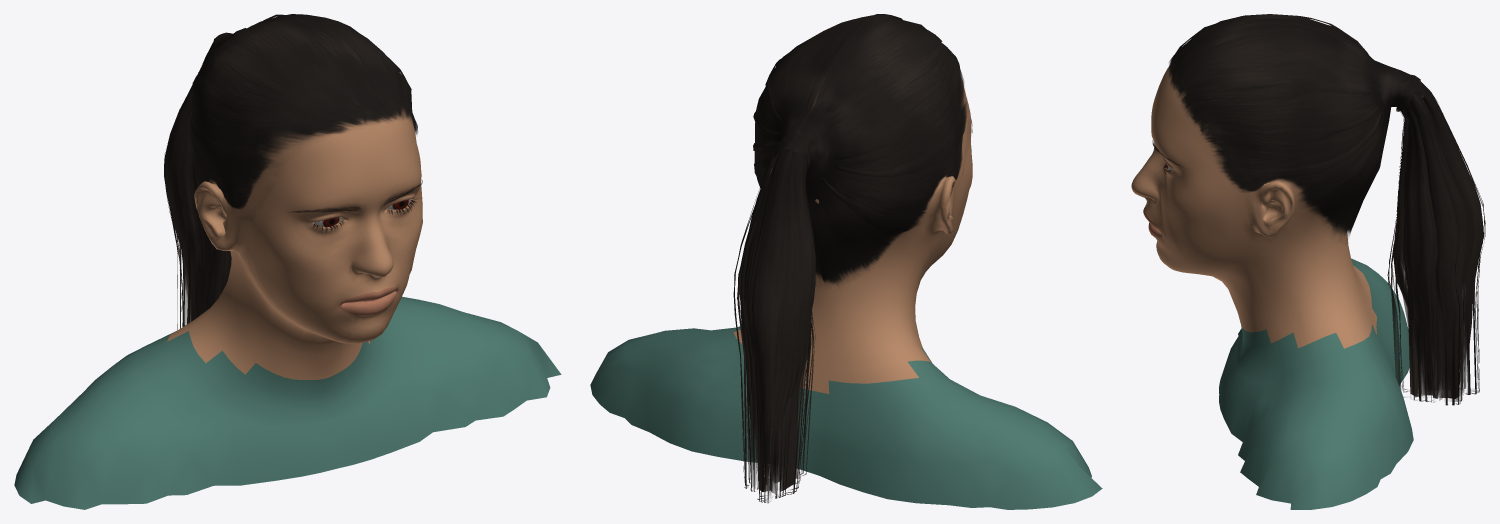
File: neutral-04.glb
The picture shows the model from 3 angles, left to right: view 1: azimuth 30°, elevation 25°; view 2: azimuth 150°, elevation 25°; view 3: azimuth 270°, elevation 25°; orthographic projection. The views are drawn at different scales.
Visible parts, largest first — view 1: mpfb-face, mpfb-face.ponytail01; view 2: mpfb-face, mpfb-face.ponytail01; view 3: mpfb-face, mpfb-face.ponytail01.
Part boxes in pixels (<box>): mpfb-face: <box>14,109,561,509</box>; mpfb-face.ponytail01: <box>164,14,417,329</box>; mpfb-face: <box>590,78,1102,509</box>; mpfb-face.ponytail01: <box>733,14,966,503</box>; mpfb-face: <box>1131,66,1413,509</box>; mpfb-face.ponytail01: <box>1168,14,1485,405</box>.
Size of the model in its own units: 0.4458 by 0.3378 by 0.2891.
Materials: 9 (6 with a texture image).
